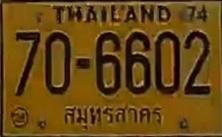0: (154, 31, 180, 94), (44, 31, 70, 94)
2: (184, 30, 209, 96)
6: (125, 31, 150, 93), (95, 32, 120, 94)
7: (15, 31, 40, 96)
SKN: (56, 100, 167, 131)
